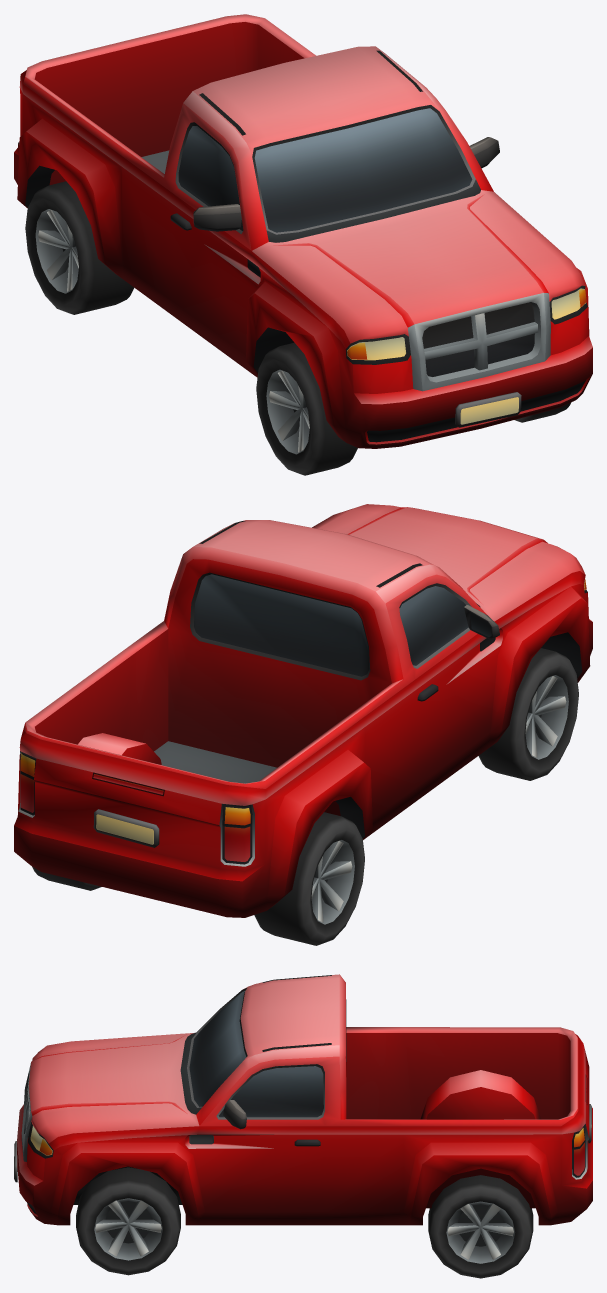
Rendered from VHC0110014.FBX.
The picture shows the model from 3 angles, top to bottom: view 1: azimuth 30°, elevation 25°; view 2: azimuth 150°, elevation 25°; view 3: azimuth 270°, elevation 25°; orthographic projection. The views are drawn at different scales.
Parts seen in each view (by area): view 1: smVHC0110014; view 2: smVHC0110014; view 3: smVHC0110014.
Boxes of the visible parts, bbox=[...] form: smVHC0110014: bbox=[14, 14, 592, 475]; smVHC0110014: bbox=[14, 504, 592, 945]; smVHC0110014: bbox=[14, 974, 592, 1278].
Bounding box in the file's own units: 2.71 × 2.37 × 5.61.
Materials: 1 (1 with a texture image).
